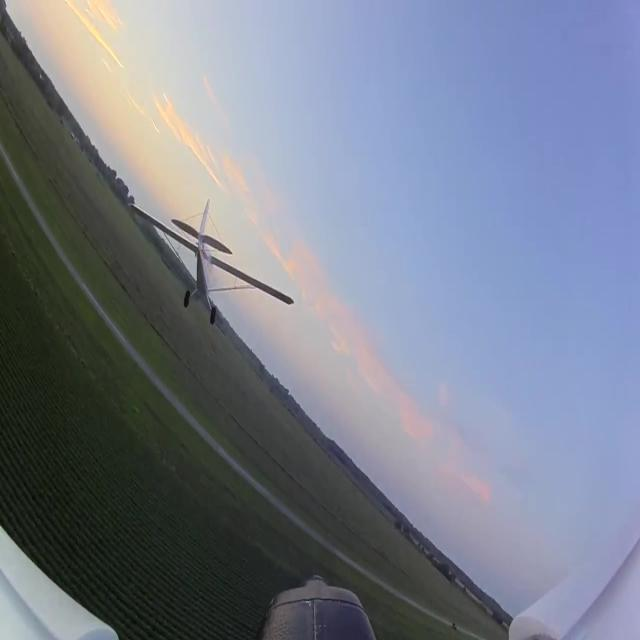iha: (126, 197, 294, 327)
